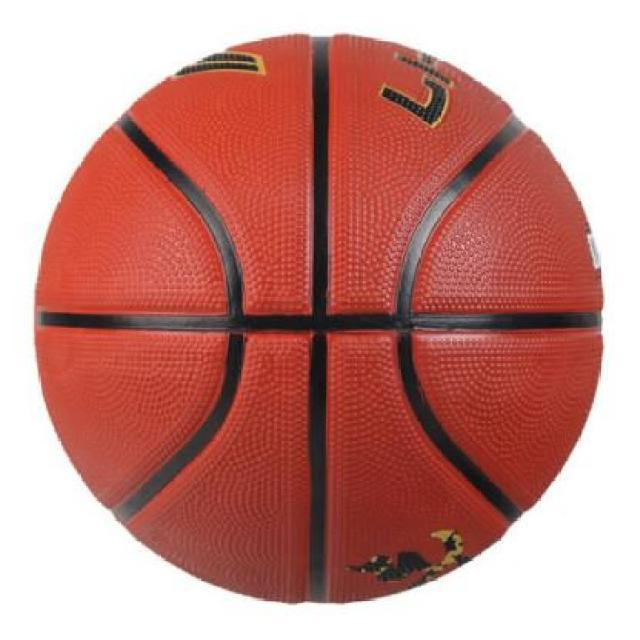basketball: (36, 33, 604, 604)
